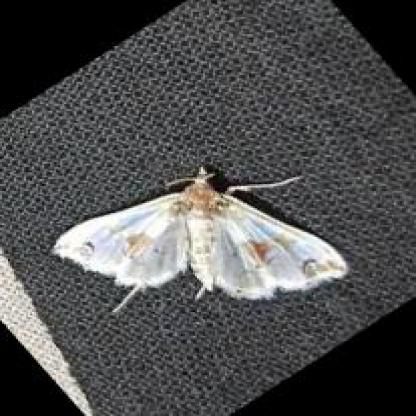leucinodes: (55, 173, 349, 300)
